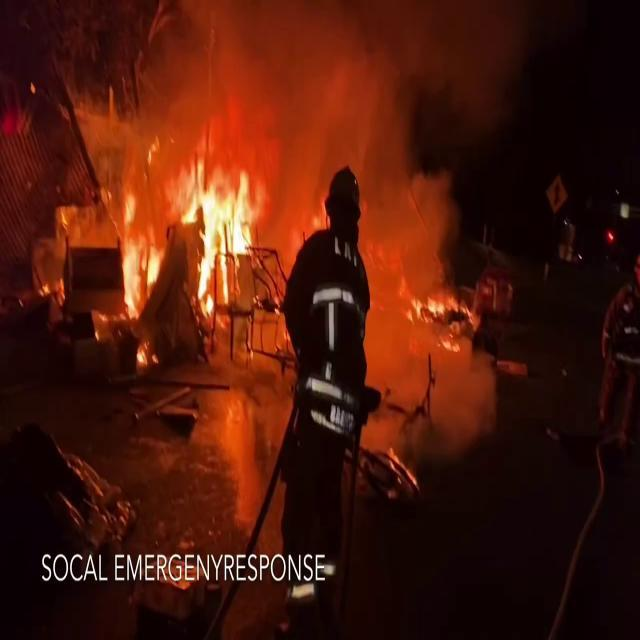Fire: (117, 154, 261, 318)
Smoke: (138, 0, 427, 251)
